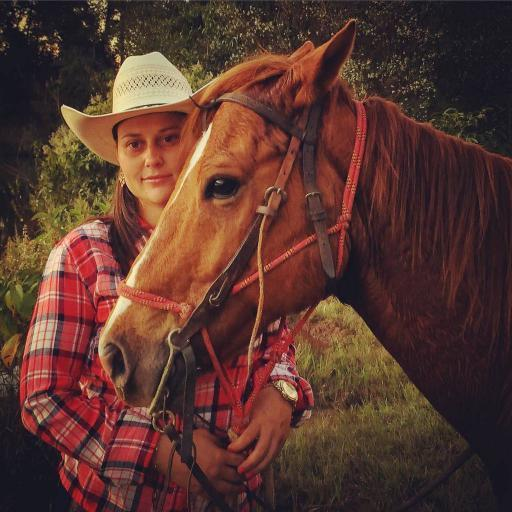horse: (98, 17, 512, 512)
